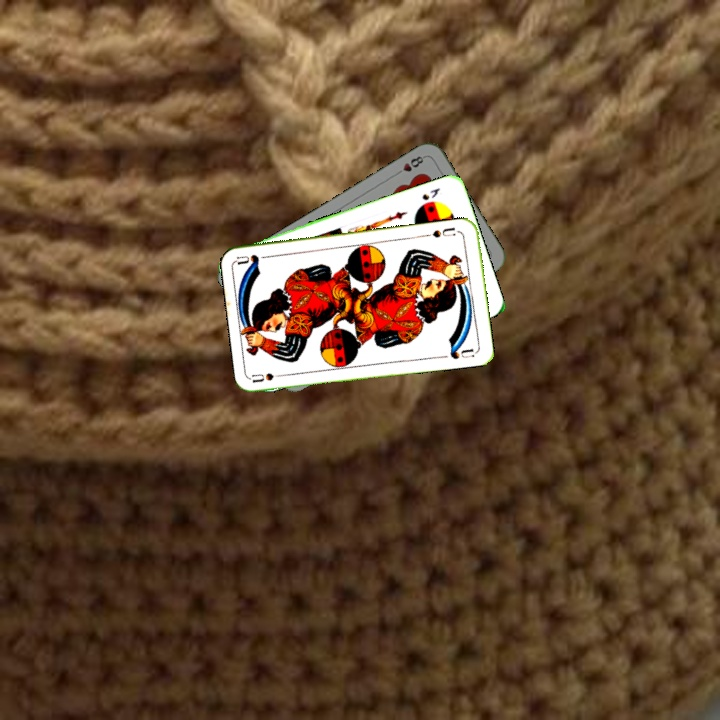H8: (391, 152, 428, 178)
SK: (418, 184, 443, 203)
SU: (249, 369, 290, 385), (428, 223, 458, 240)
